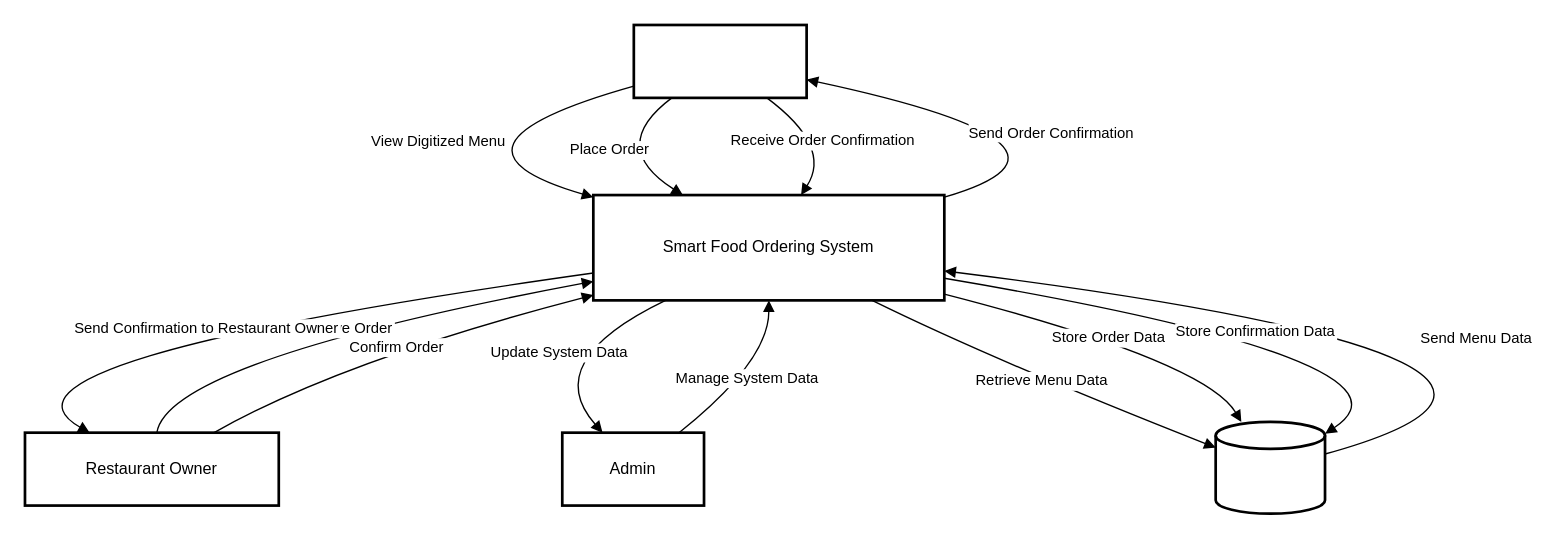
The diagram is 1558 pixels wide and 537 high, and some of its shapes have lost their labels. Here are the shapes that lost their labels. From the top down, the box of each, then its label:
(632, 23, 807, 99): Customer
(1214, 420, 1326, 514): Database
